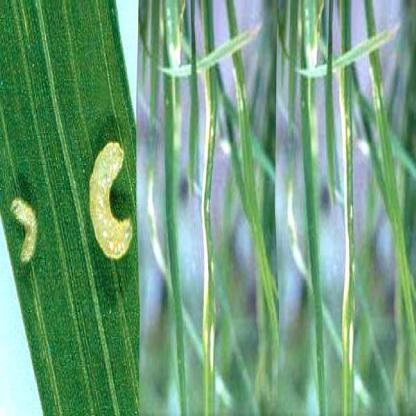whorl-maggot: (86, 132, 135, 266), (11, 182, 40, 269)
